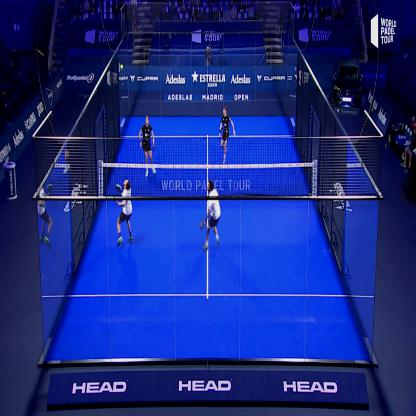ball: (119, 63, 124, 73)
